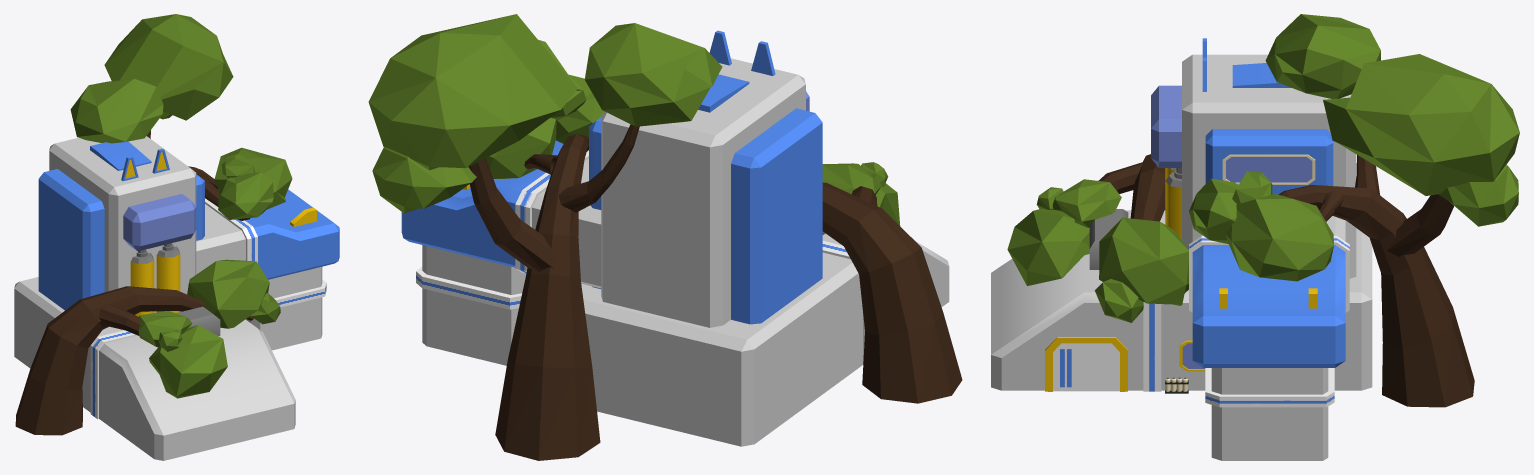
The model's file is M_dungeon.fbx.
The picture shows the model from 3 angles, left to right: view 1: azimuth 30°, elevation 25°; view 2: azimuth 150°, elevation 25°; view 3: azimuth 270°, elevation 25°; orthographic projection. The views are drawn at different scales.
Visible parts, largest first — view 1: Box021; view 2: Box021; view 3: Box021.
Part boxes in pixels (<box>): Box021: <box>14,14,339,460</box>; Box021: <box>368,14,962,460</box>; Box021: <box>991,14,1519,460</box>.
Bounding box in the file's own units: 64497 × 51427 × 68778.
